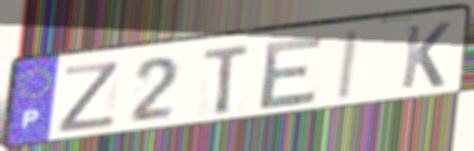2: (127, 54, 186, 126)
E: (255, 32, 327, 113)
I: (335, 27, 363, 103)
K: (397, 20, 453, 92)
T: (201, 41, 254, 118)
Z: (54, 59, 123, 136)
